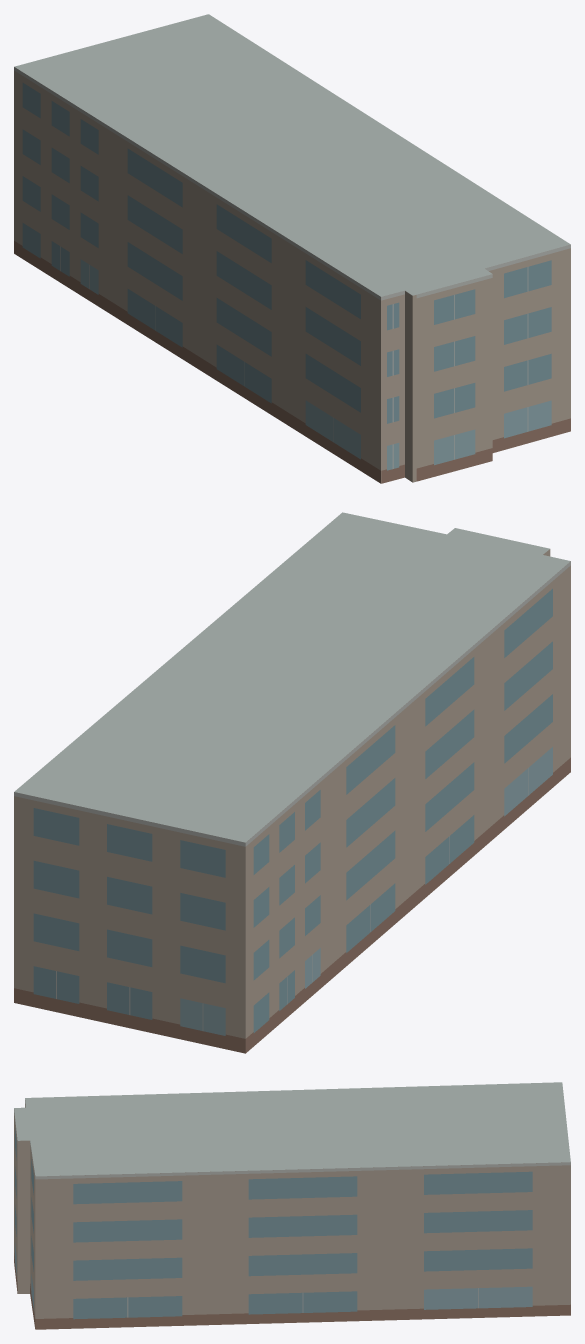
The model's file is survey-upis-32956654.glb.
The picture shows the model from 3 angles, top to bottom: view 1: azimuth 30°, elevation 25°; view 2: azimuth 150°, elevation 25°; view 3: azimuth 270°, elevation 25°; orthographic projection. The views are drawn at different scales.
Visible parts, largest first — view 1: survey-upis-32956654.tmp; view 2: survey-upis-32956654.tmp; view 3: survey-upis-32956654.tmp.
Boxes of the visible parts, x1,y1,x2,y2 form: survey-upis-32956654.tmp: (14, 14, 570, 483); survey-upis-32956654.tmp: (14, 512, 570, 1053); survey-upis-32956654.tmp: (14, 1082, 570, 1329).
Bounding box in the file's own units: 16.23 × 12.3 × 40.51.
